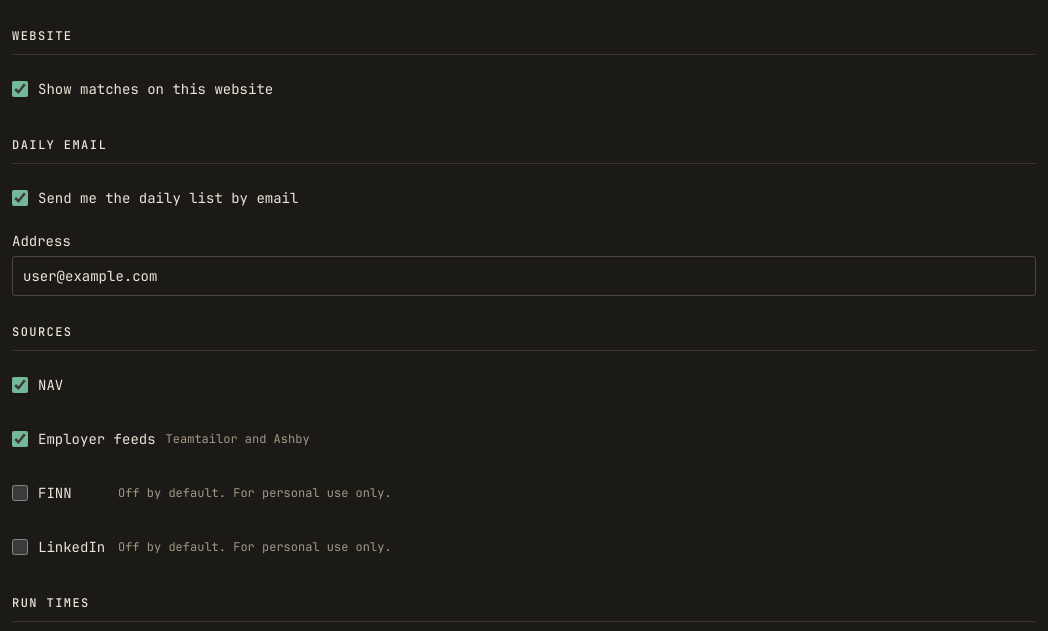
Test: DeliverySettings › should ask about the website clicked right after an address edit
Replace the text in the field labelled "Address" with "other@example.com" at (524, 276), box [12,256,1036,296]
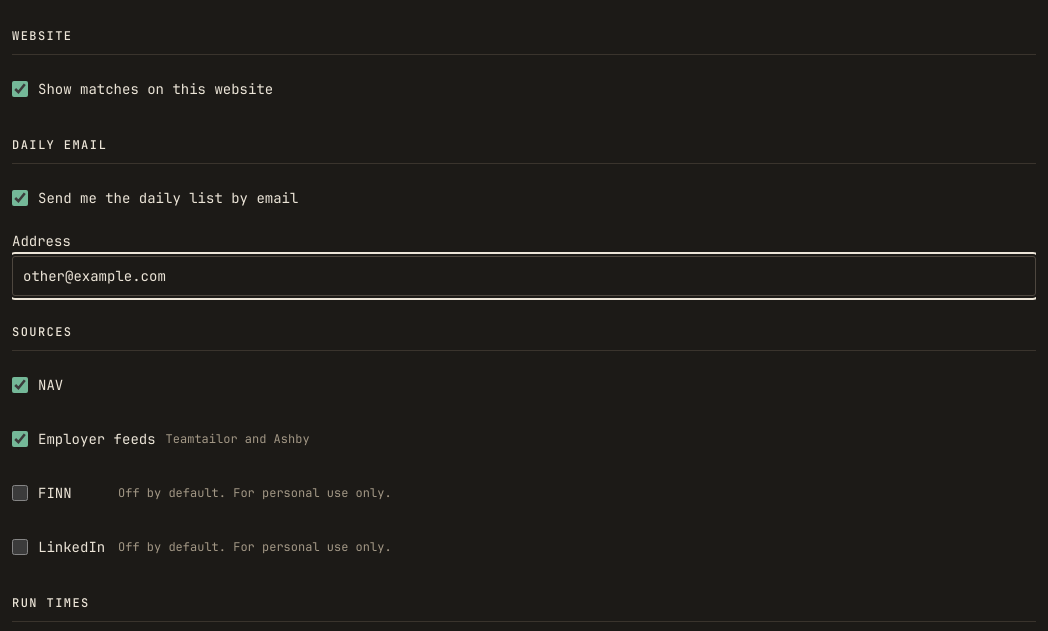
Click the checkbox labelled "Show matches on this website".
click(20, 89)  # box [12,81,28,97]
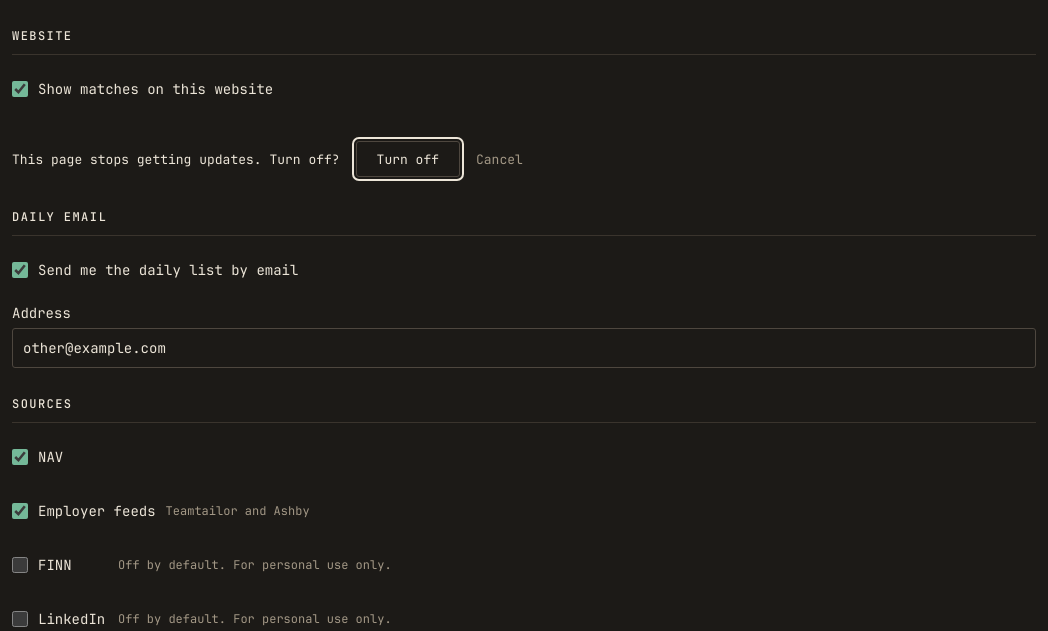
Now the text "This page stops getting updates. Turn off?" is shown, box [12,150,340,168]
